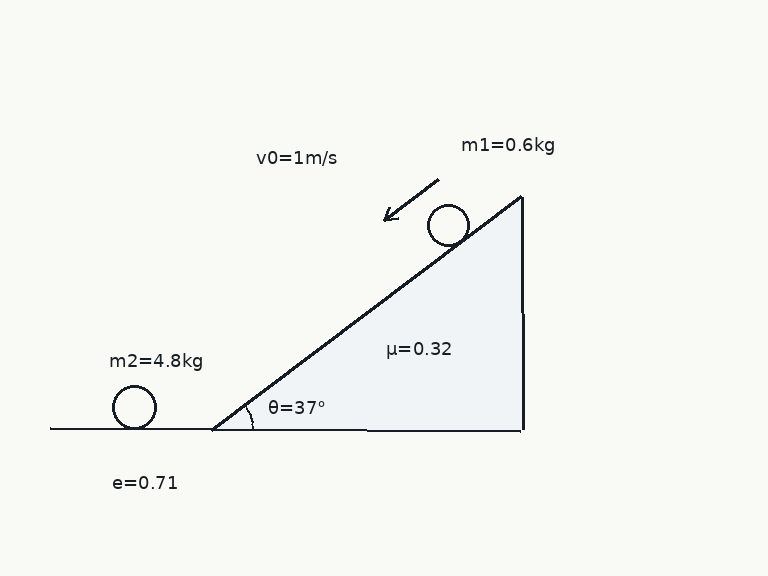ball: (110, 383, 158, 431), (425, 202, 471, 248)
ramp: (211, 194, 524, 431)
